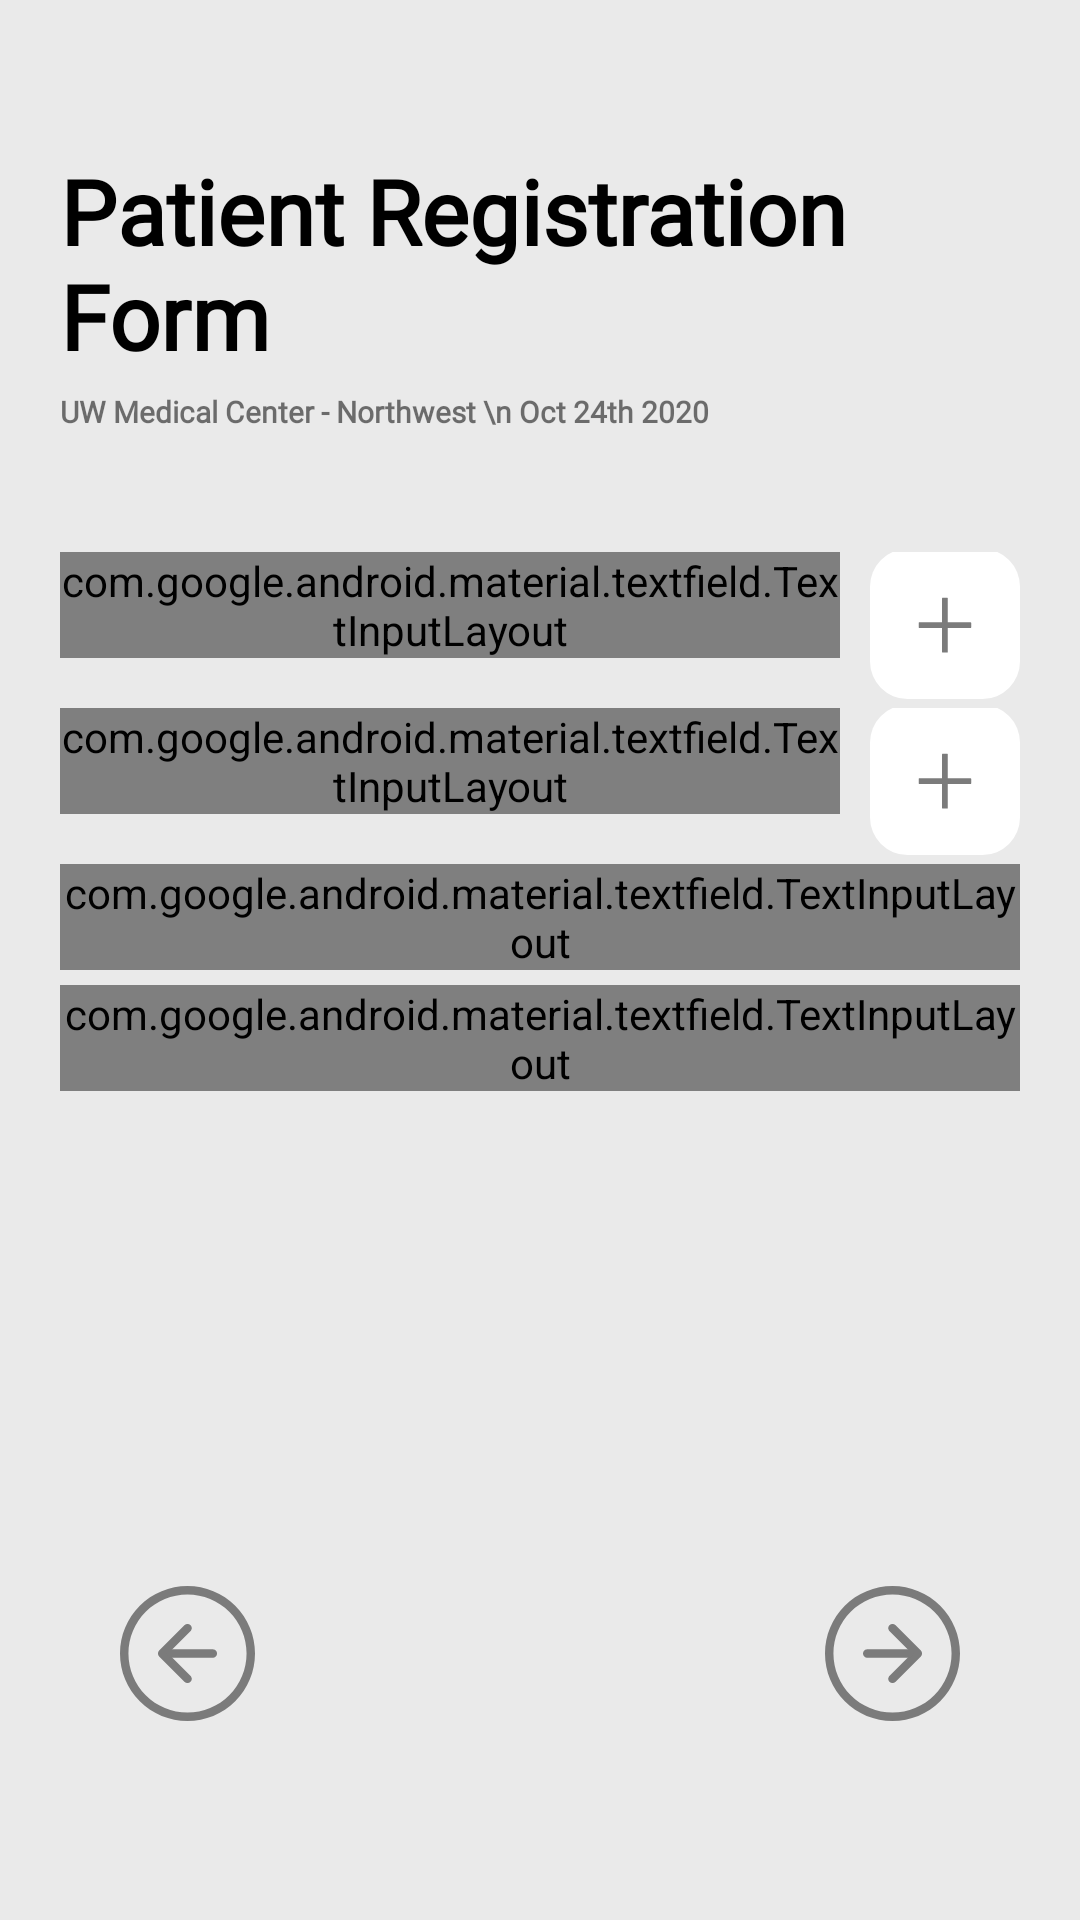

Point at icon controls on the screen. Image size 1080w x 1920h, points as (x,y).
bi arrow left circle: (187,1653)
bi arrow right circle: (892,1653)
reg plus: (945,625), (945,781)
